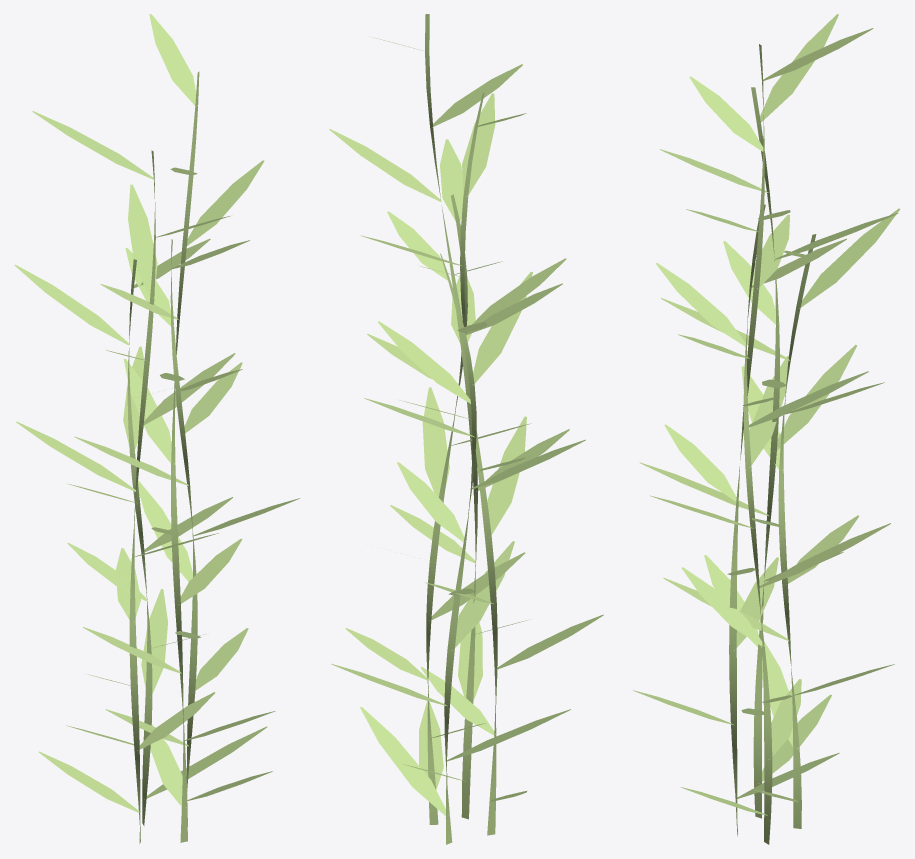
Rendered from kelp.glb.
The picture shows the model from 3 angles, left to right: view 1: azimuth 30°, elevation 25°; view 2: azimuth 150°, elevation 25°; view 3: azimuth 270°, elevation 25°; orthographic projection. The views are drawn at different scales.
Parts seen in each view (by area): view 1: kelp; view 2: kelp; view 3: kelp.
Part boxes in pixels (x1,y1,x2,y2): kelp: (14,14,299,843); kelp: (329,14,603,844); kelp: (633,14,900,844).
Size of the model in its own units: 4.33 by 14.57 by 4.3.
